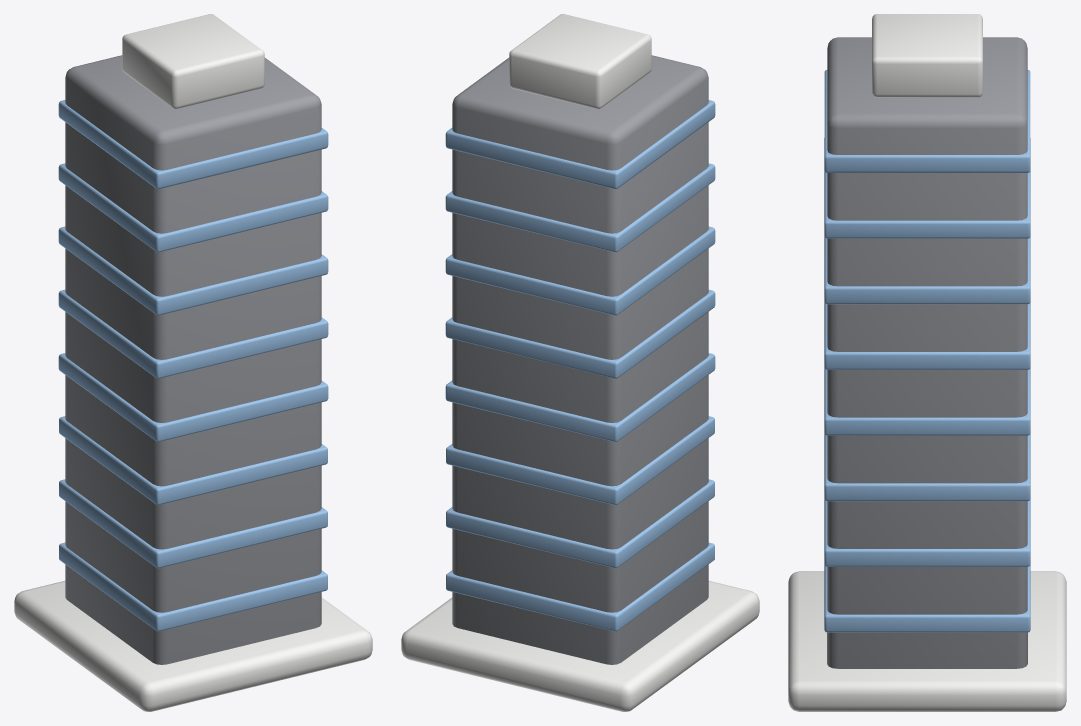
File: career--accenture.glb
3 views of the same model, side by side, from view 1: azimuth 30°, elevation 25°; view 2: azimuth 150°, elevation 25°; view 3: azimuth 270°, elevation 25° (orthographic). The views are drawn at different scales.
Visible parts, largest first — view 1: career--accenture; view 2: career--accenture; view 3: career--accenture.
Part boxes in pixels (x1,y1,x2,y2): career--accenture: (14, 14, 372, 711); career--accenture: (401, 14, 759, 711); career--accenture: (788, 14, 1066, 711).
Size of the model in its own units: 0.5 by 1.23 by 0.5.
